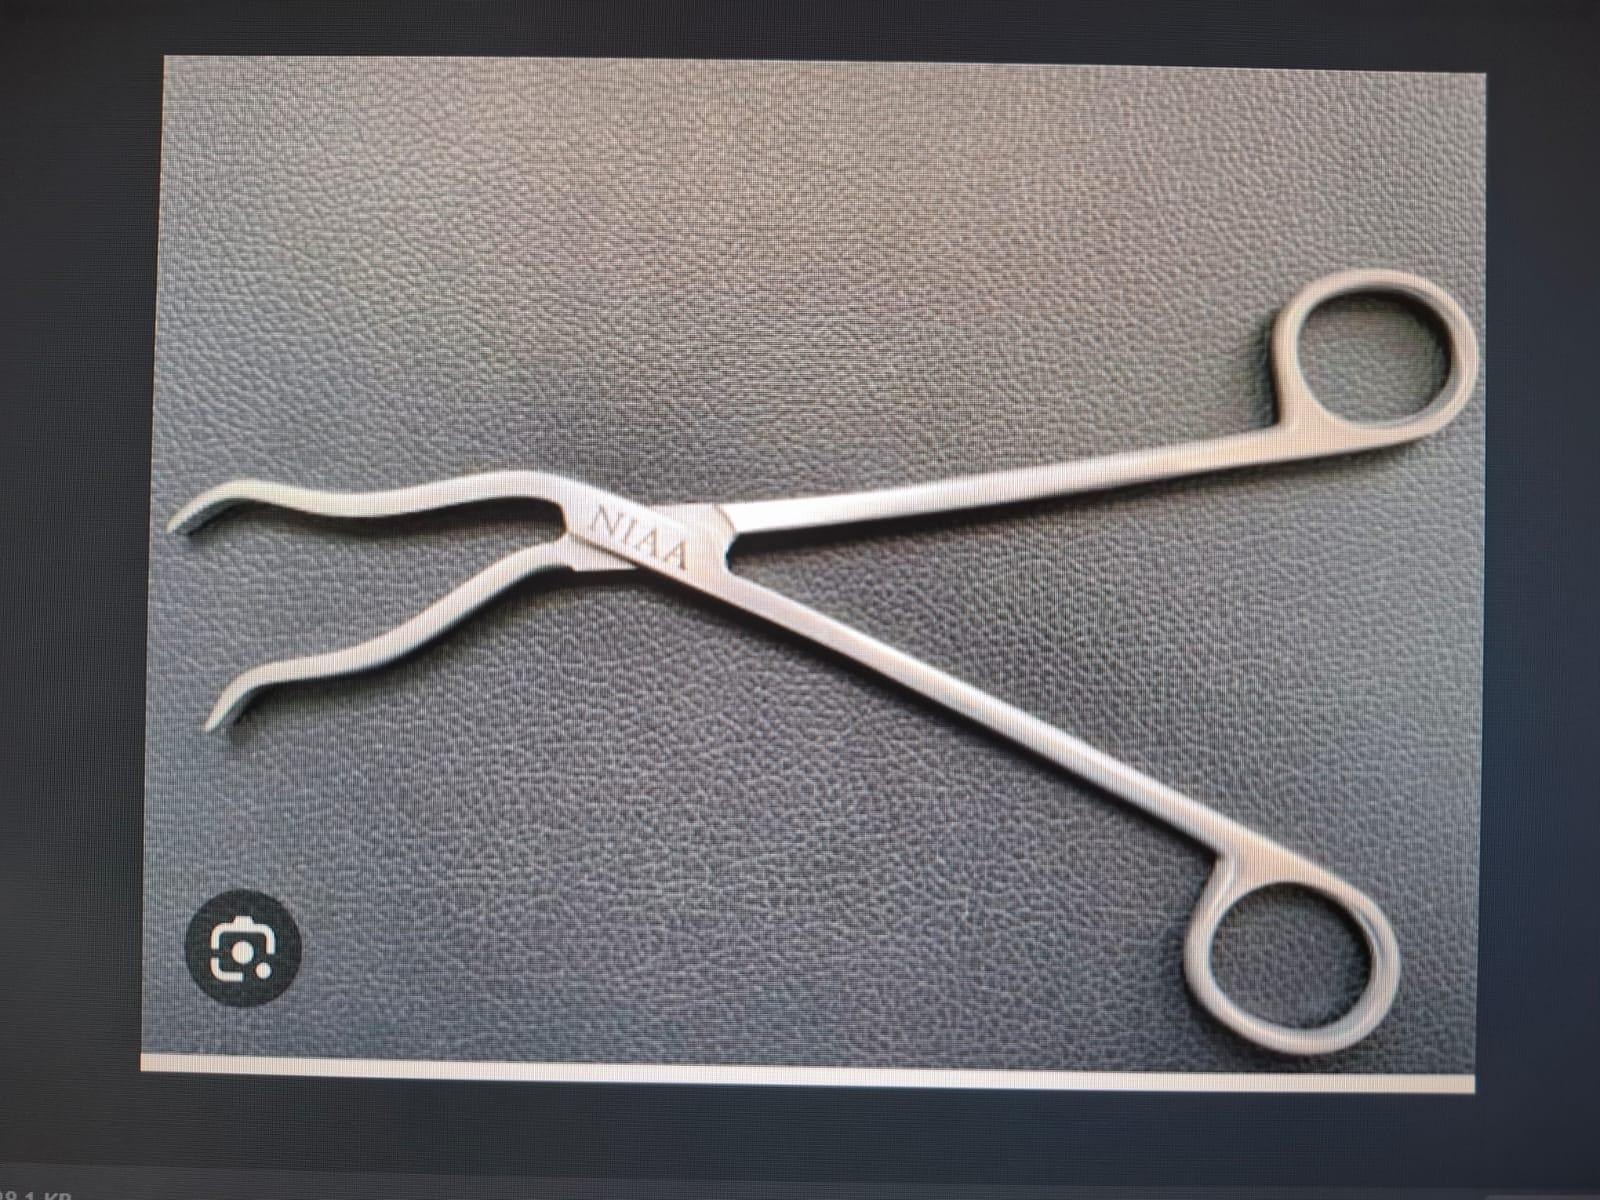Cheatle Forceps: (173, 260, 1484, 1064)
